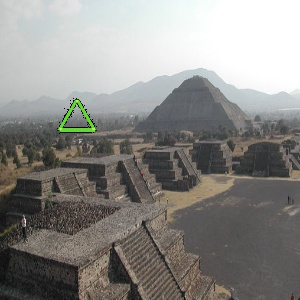triangle: (56, 95, 98, 135)
